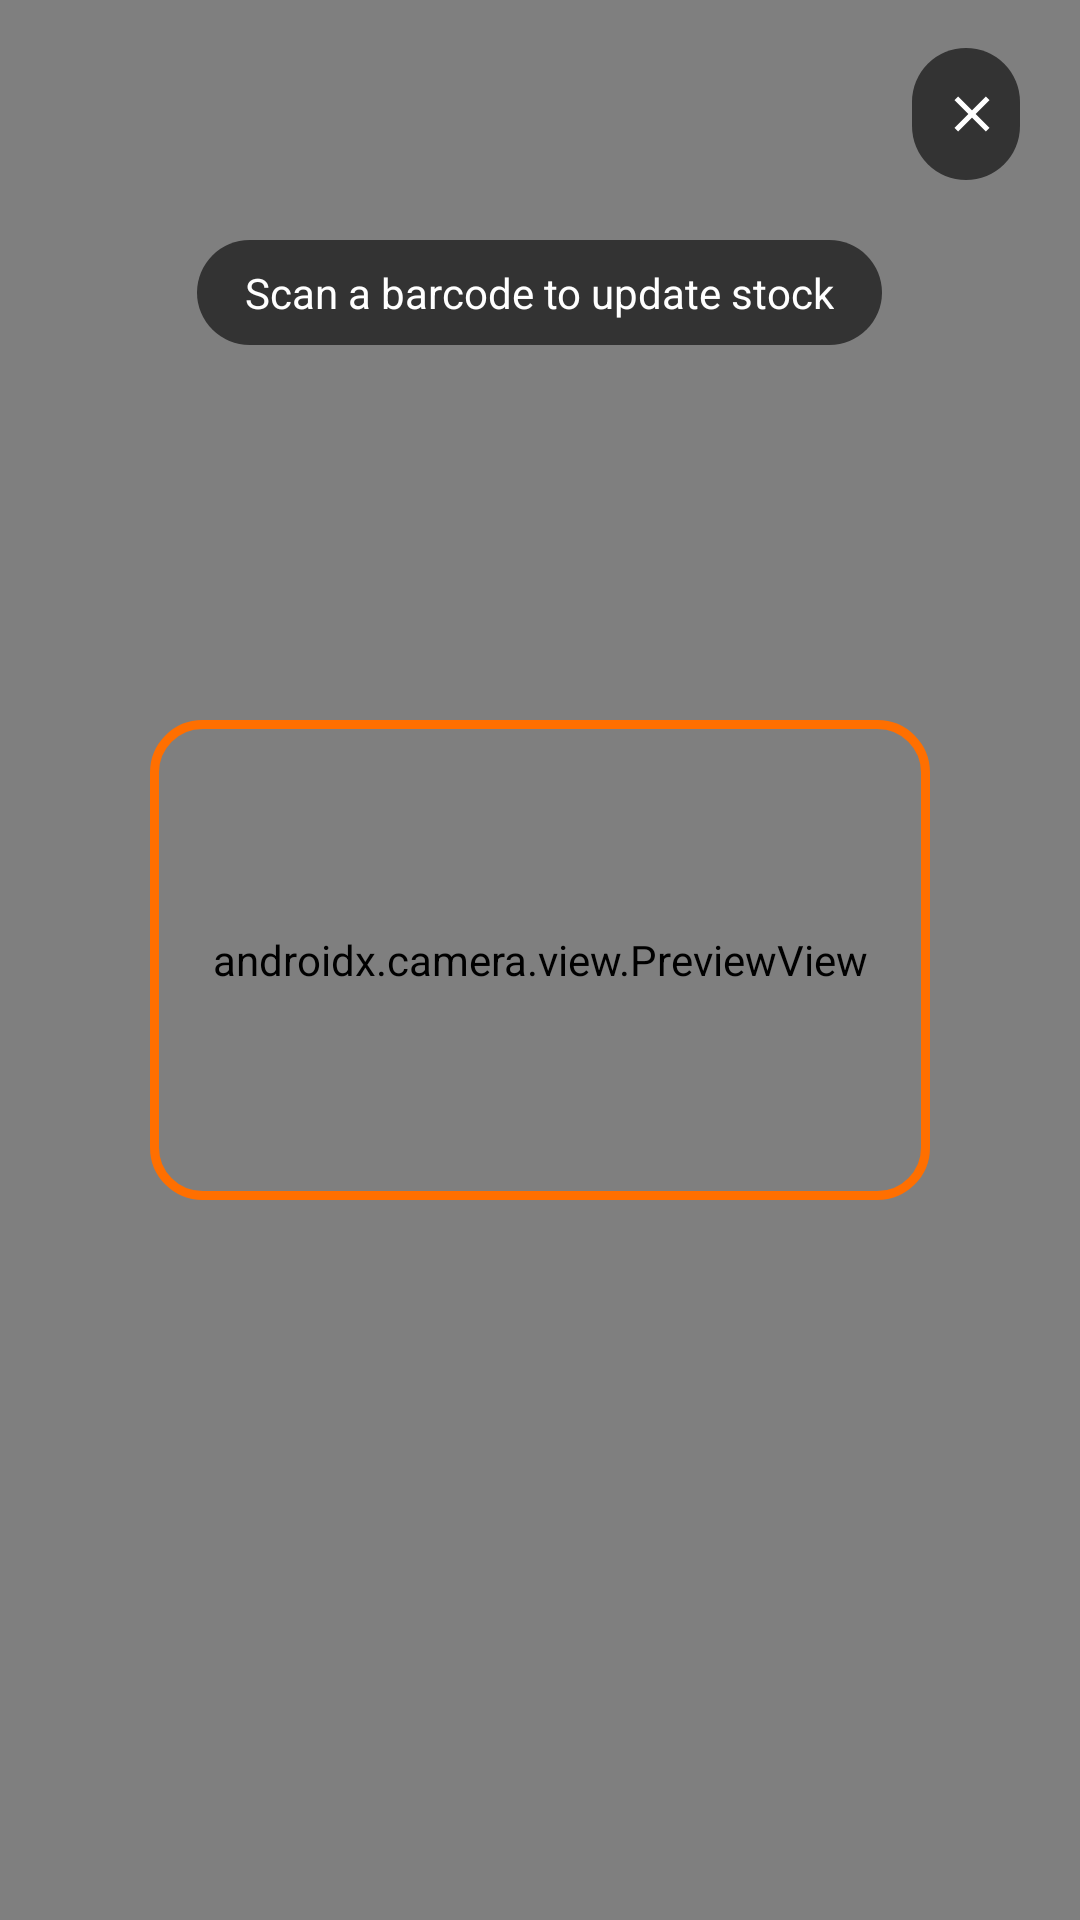

Icon click points for this 1080 × 1920 phone screenshot, format (x,y):
close: (966,114)
